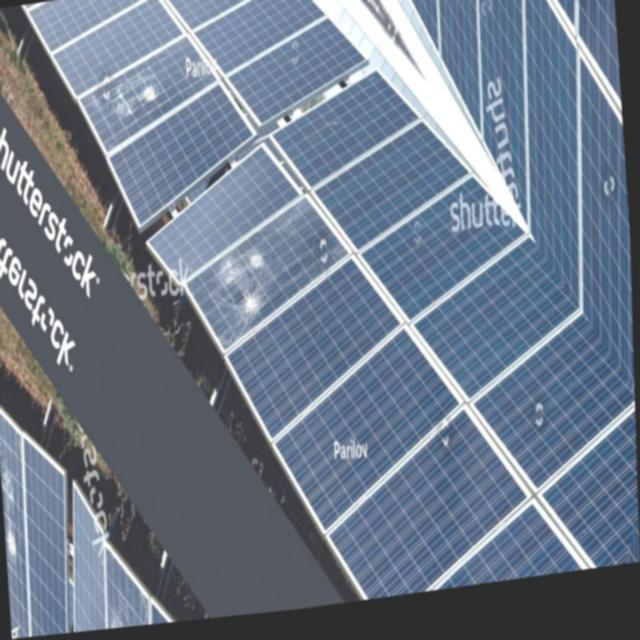cracked: (184, 208, 348, 353), (82, 55, 200, 149), (1, 412, 23, 635), (100, 551, 152, 631)
